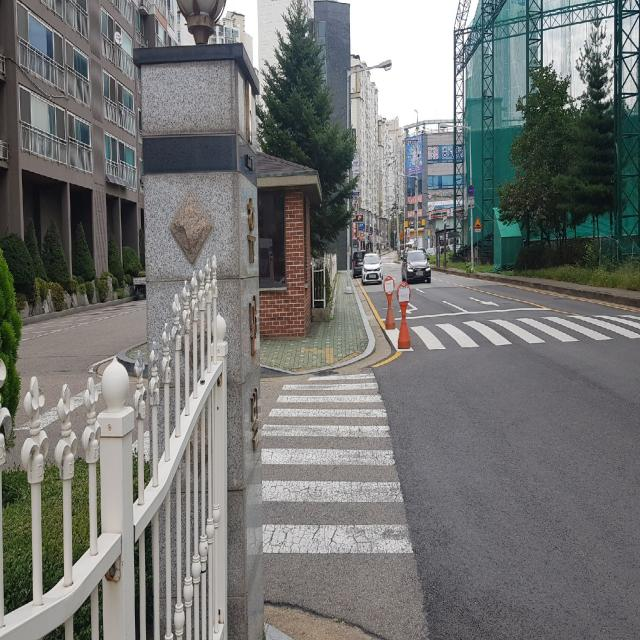횡단보도: (259, 372, 415, 557), (377, 315, 640, 359)
